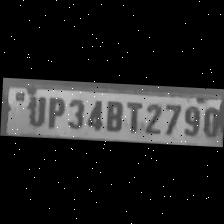0: (200, 104, 222, 138)
2: (140, 100, 164, 134)
3: (63, 94, 85, 130)
4: (82, 96, 104, 130)
7: (160, 100, 180, 136)
9: (178, 103, 201, 137)
B: (102, 97, 124, 133)
P: (42, 94, 64, 128)
T: (121, 98, 143, 134)
U: (20, 92, 44, 128)
